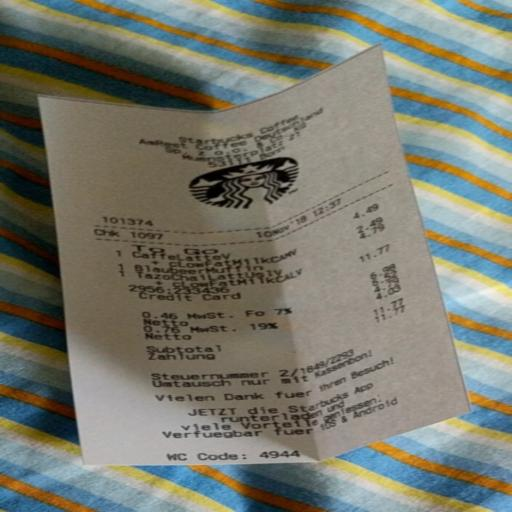paper: (0, 29, 506, 512)
